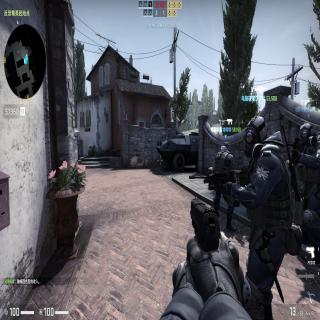CT-Body: (236, 116, 302, 278), (213, 140, 235, 173)
CT-Head: (243, 117, 268, 157), (298, 123, 315, 151), (222, 142, 230, 150)
